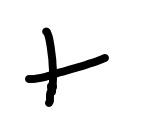plus: (25, 28, 108, 108)
